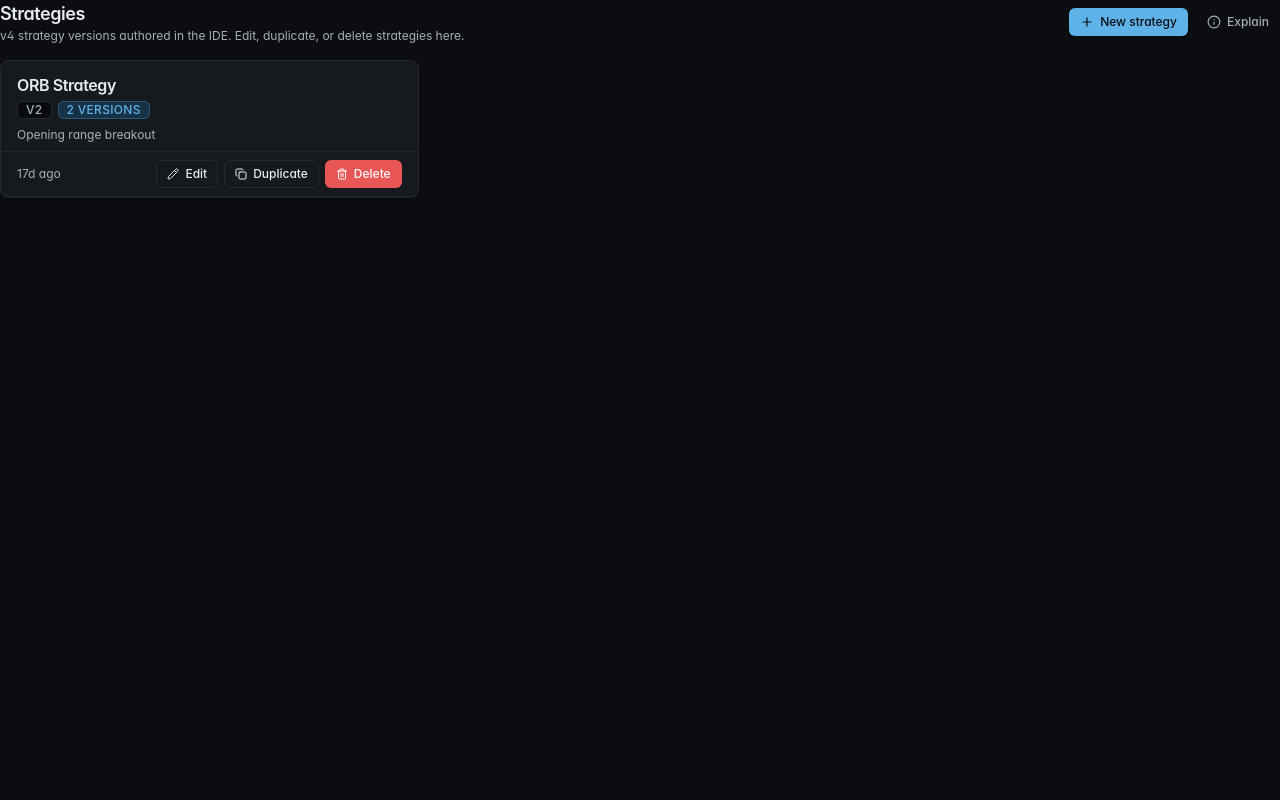
Test case: <StrategiesV4 /> › clicking Delete opens hold-to-arm confirmation
Check: the text "ORB Strategy" is shown, box top-left (17, 75), bottom-right (116, 95)
Click the button with aria-label "delete strategy orb strategy". click: [363, 174]
box: top-left (325, 160), bottom-right (402, 188)
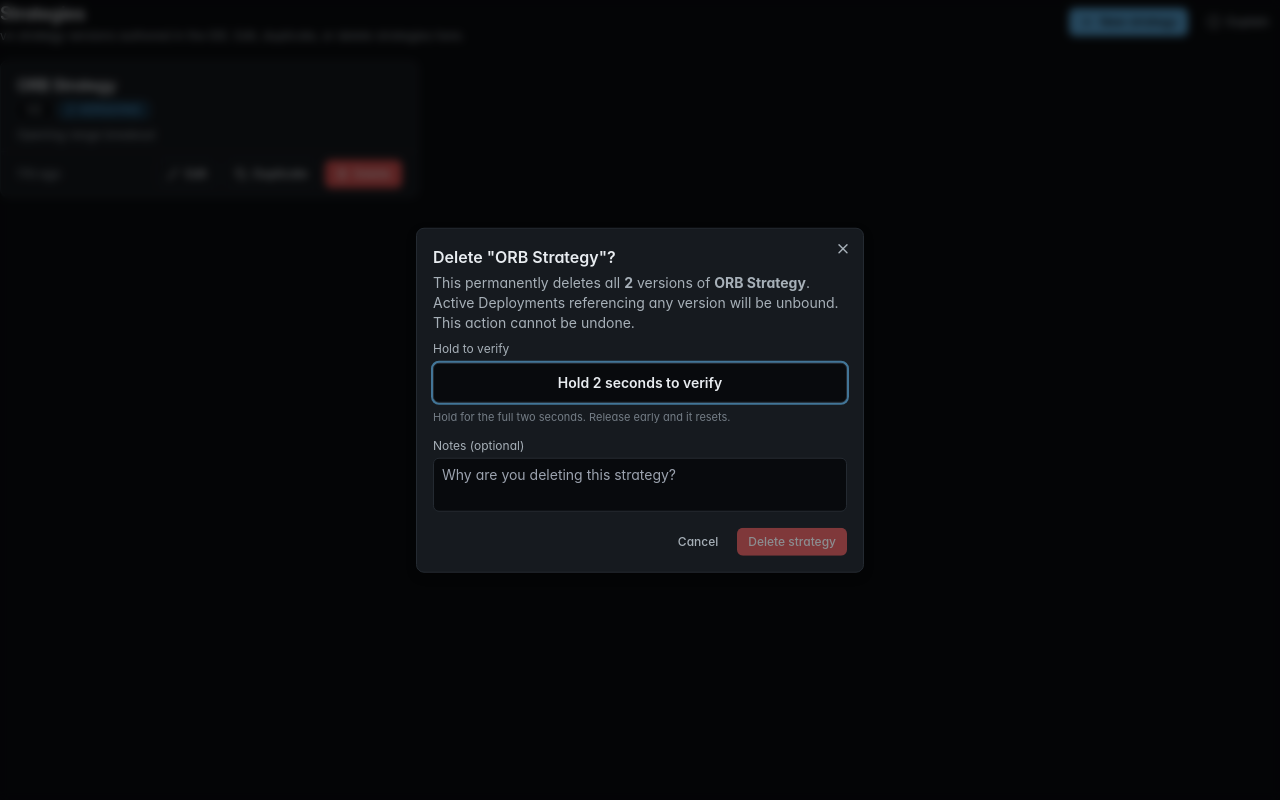
Check: the heading "Delete \"ORB Strategy\"?" is shown, box top-left (433, 247), bottom-right (616, 267)
Check: the button "Delete strategy" is disabled, box top-left (737, 527), bottom-right (847, 555)
Check: the button "Hold 2 seconds to verify" is shown, box top-left (433, 363), bottom-right (847, 403)
